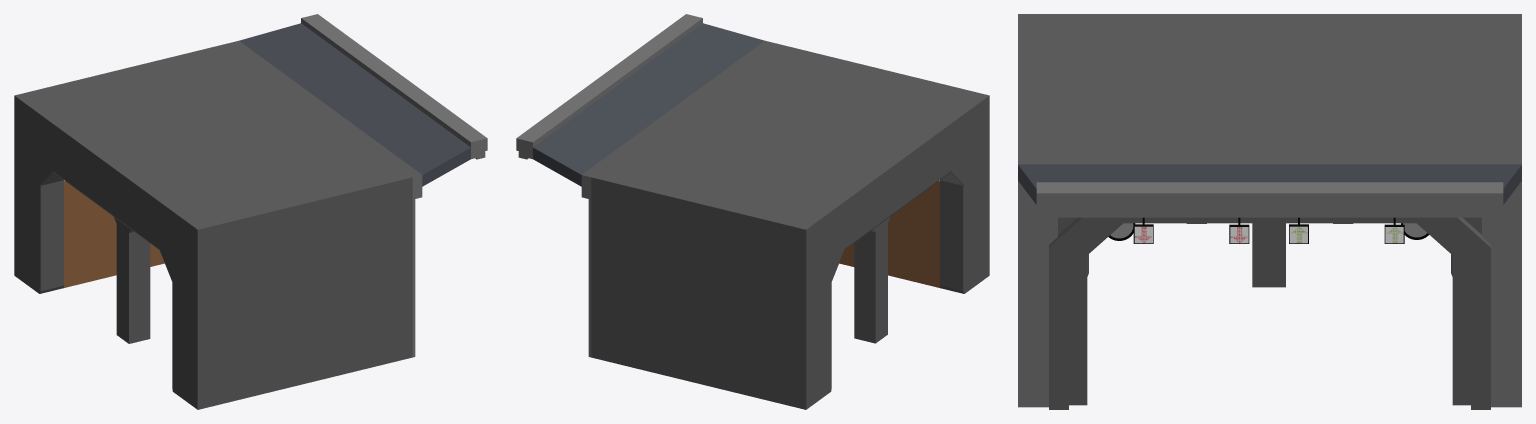
Rendered from SM_ShortTunnelTopWithoutWall11.fbx.
3 renders of one model, left to right at view 1: azimuth 30°, elevation 25°; view 2: azimuth 150°, elevation 25°; view 3: azimuth 270°, elevation 25°, orthographic. The views are drawn at different scales.
Parts seen in each view (by area): view 1: Cube.036, Cube.010; view 2: Cube.036, Cube.010; view 3: Cube.036, Cube.010.
Boxes of the visible parts, x1,y1,x2,y2 form: Cube.036: (14,14,487,409); Cube.010: (114,217,150,343); Cube.036: (516,14,989,409); Cube.010: (854,216,890,343); Cube.036: (1018,14,1521,409); Cube.010: (1252,223,1285,287).
Size of the model in its own units: 941 by 591 by 1008.
